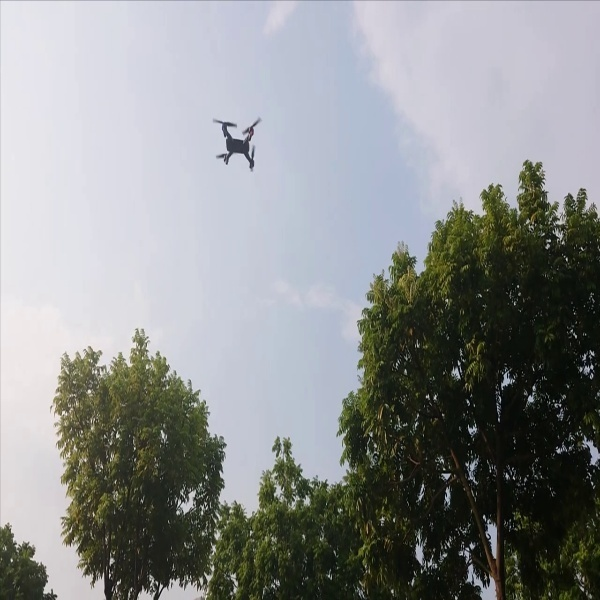drone: (210, 108, 266, 175)
